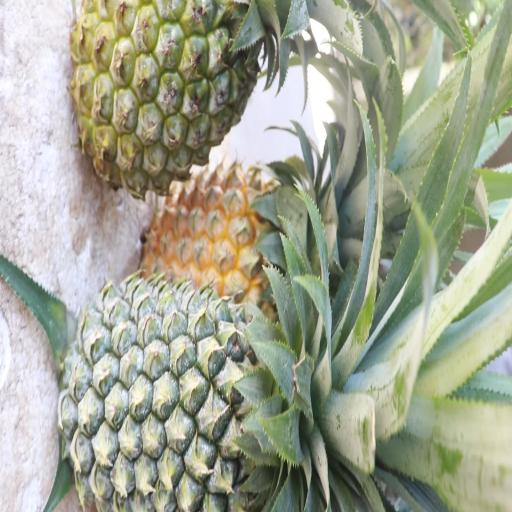------------------------------: (74, 0, 280, 183)
Pineapple - v8 v1: (150, 168, 339, 306)
